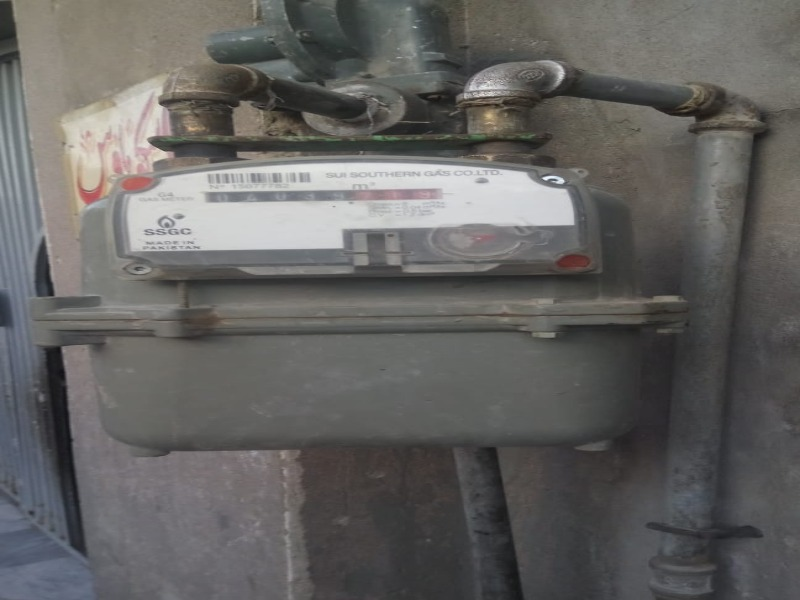ssgc: (201, 187, 447, 205)
